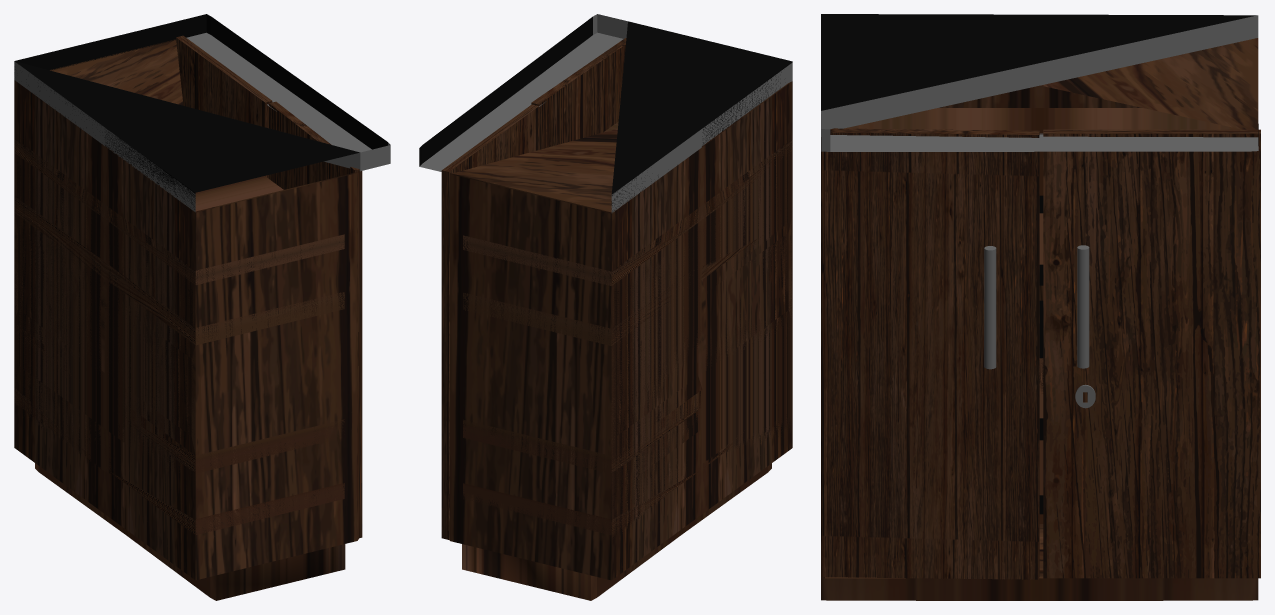
File: Wooden Cabinet.glb
3 views of the same model, side by side, from view 1: azimuth 30°, elevation 25°; view 2: azimuth 150°, elevation 25°; view 3: azimuth 270°, elevation 25° (orthographic). The views are drawn at different scales.
Visible parts, largest first — view 1: Cylinder.001, Cylinder.002, Cube.004; view 2: Cylinder.001, Cylinder.002, Cube.004; view 3: Cylinder.002, Cube.004, Cylinder.001.
Part boxes in pixels (<box>): Cylinder.001: <box>14,14,390,600</box>; Cylinder.002: <box>176,35,272,178</box>; Cube.004: <box>269,101,362,538</box>; Cylinder.001: <box>419,14,792,600</box>; Cylinder.002: <box>441,104,538,539</box>; Cube.004: <box>531,38,626,149</box>; Cylinder.002: <box>1043,129,1260,578</box>; Cube.004: <box>822,128,1039,579</box>; Cylinder.001: <box>821,14,1258,600</box>.
Size of the model in its own units: 5.32 by 10.69 by 8.56.
Materials: 3 (1 with a texture image).
